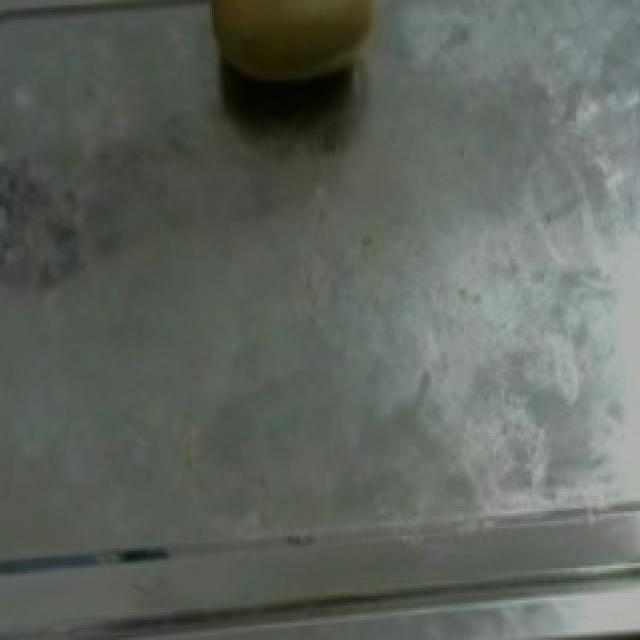Fruit: (188, 0, 410, 84)
